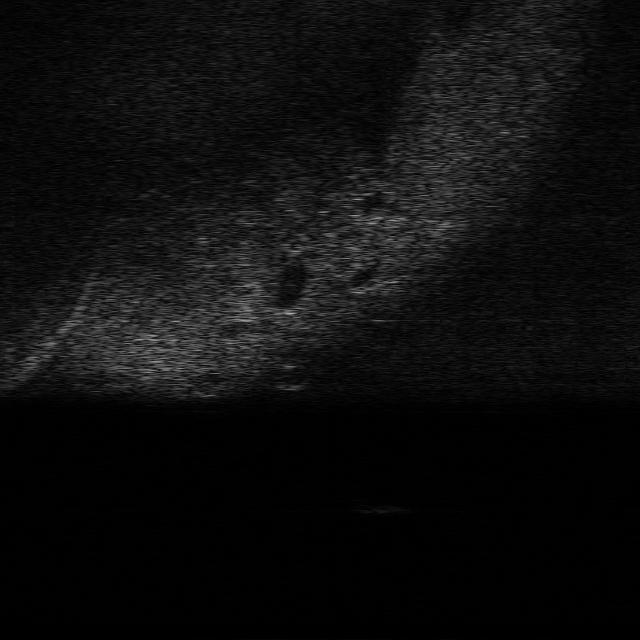ball: (272, 362, 312, 391)
cube: (352, 500, 412, 516)
